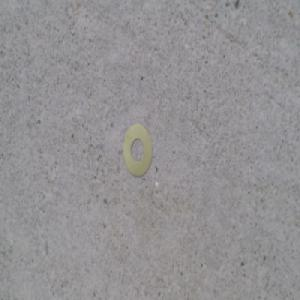Washer: (122, 123, 153, 179)
